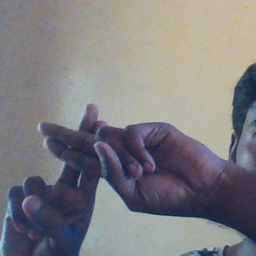F: (19, 98, 136, 221)
